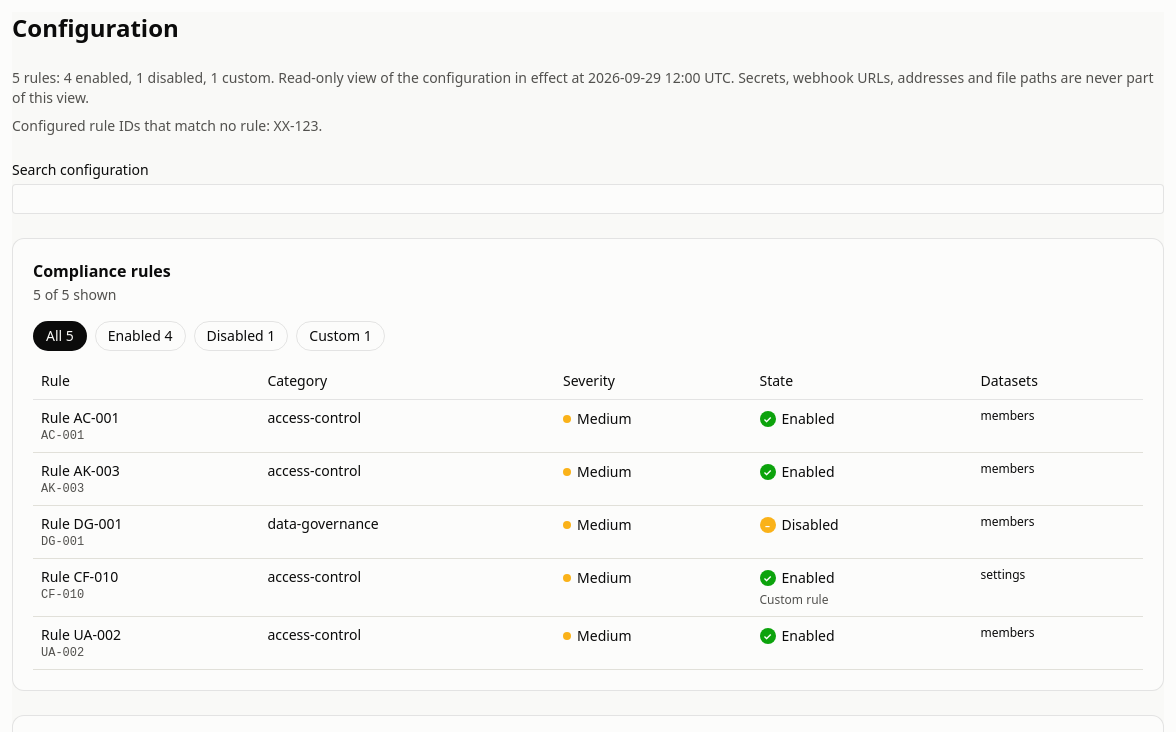
Scenario: Config page › filters rules by state
Expected: the table named "Compliance rules" is shown, [33,363,1143,670]
Click the button "Disabled 1": point(241, 336) [194,321,288,351]
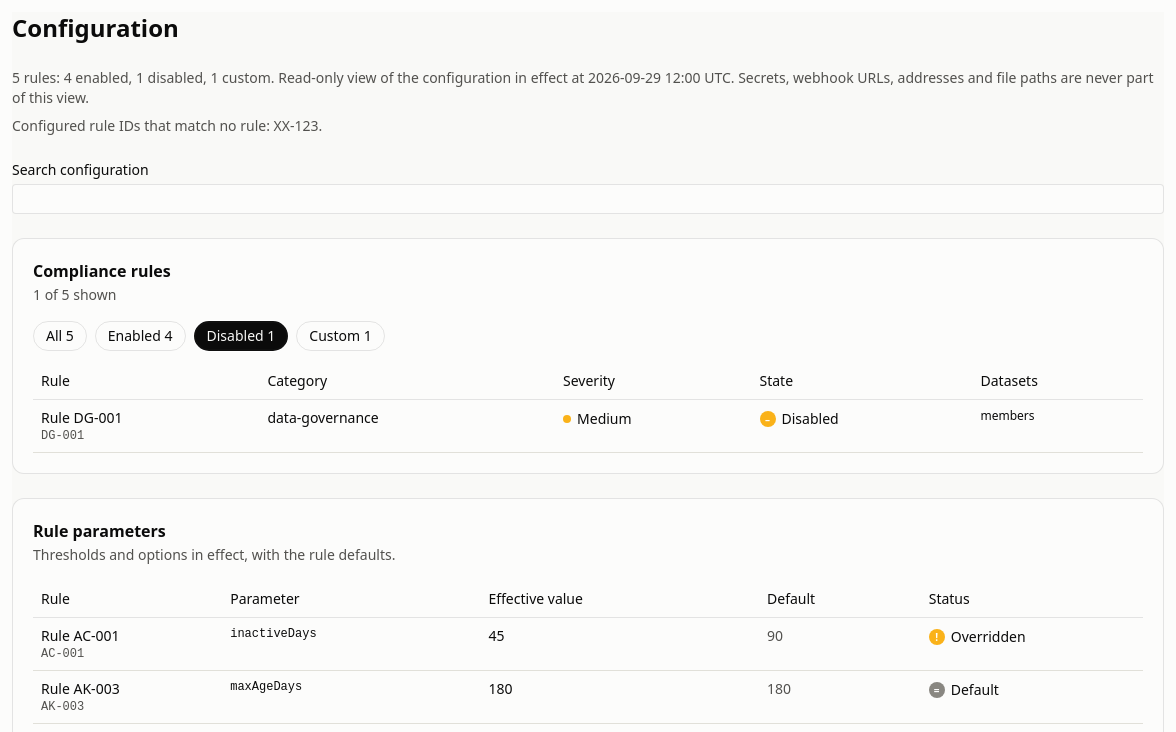
Expected: the column heading "Rule DG-001" is shown, [41,408,122,427]
Click the button "Custom 1": point(341, 336) [296,321,385,351]
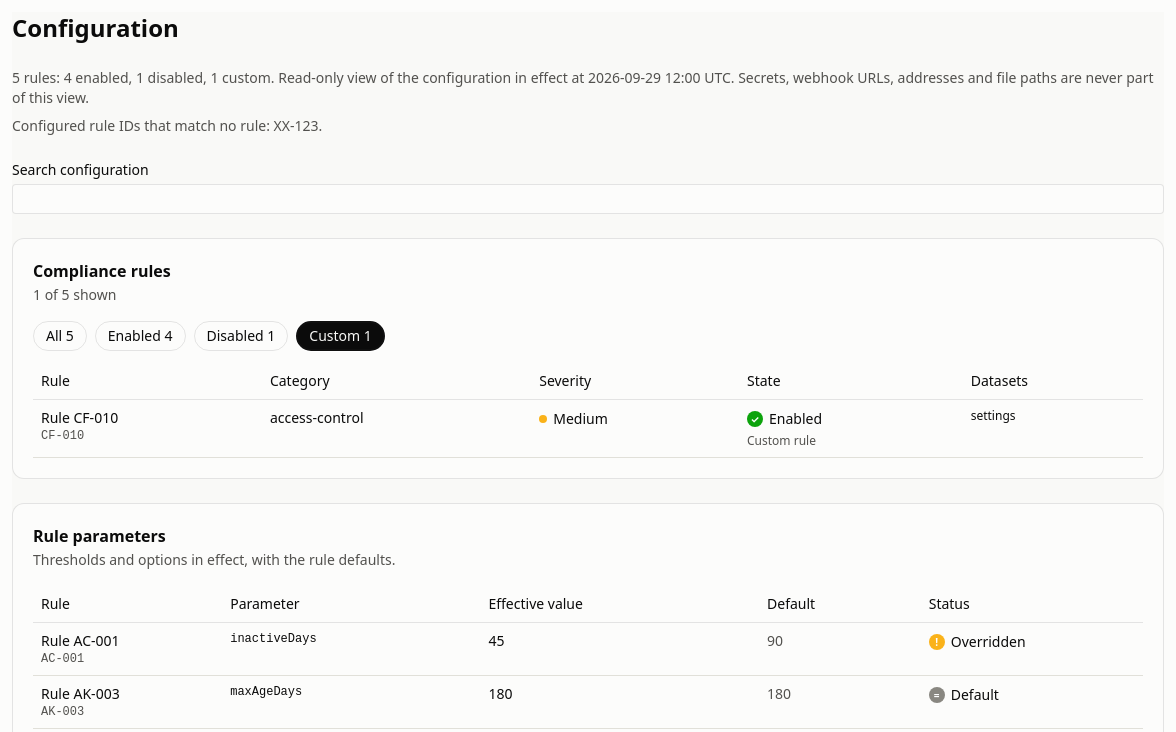
Now the column heading "Rule CF-010" is shown, box [41,408,118,427]
